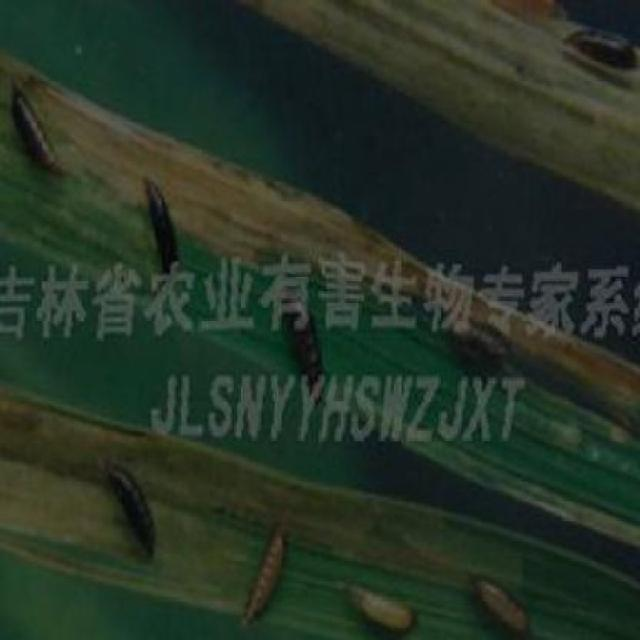whorl-maggot: (239, 511, 292, 635), (558, 7, 640, 78), (11, 82, 67, 182), (104, 460, 159, 560), (129, 162, 182, 262), (468, 554, 529, 640), (348, 577, 420, 640)
